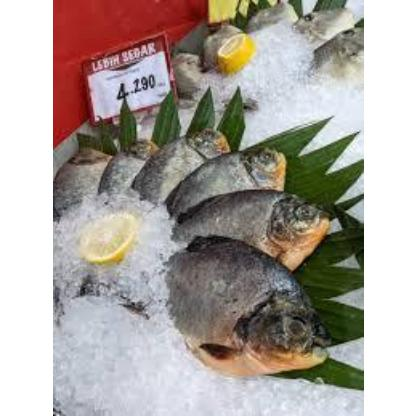ikan-pacu: (152, 244, 326, 372), (166, 193, 324, 249), (186, 150, 282, 192)
